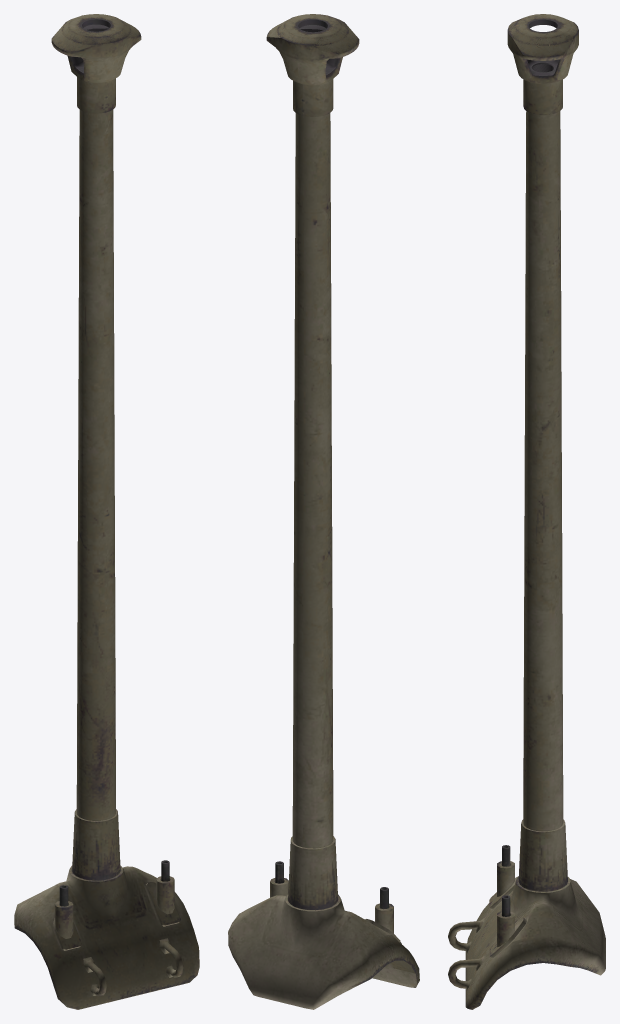
Rendered from Gun_02.glb.
The picture shows the model from 3 angles, left to right: view 1: azimuth 30°, elevation 25°; view 2: azimuth 150°, elevation 25°; view 3: azimuth 270°, elevation 25°; orthographic projection. The views are drawn at different scales.
Visible parts, largest first — view 1: set_0_group_0; view 2: set_0_group_0; view 3: set_0_group_0.
Boxes of the visible parts, left/top/right/bottom form: set_0_group_0: left=14, top=14, right=199, bottom=1009; set_0_group_0: left=228, top=14, right=419, bottom=1009; set_0_group_0: left=448, top=14, right=605, bottom=1009.
Size of the model in its own units: 0.9494 by 5.98 by 0.8951.
Materials: 1 (1 with a texture image).
